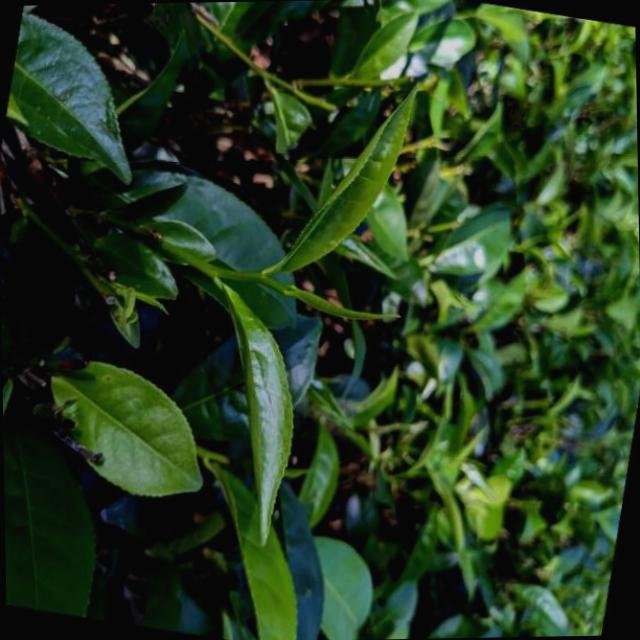Stem: (248, 271, 263, 281)
